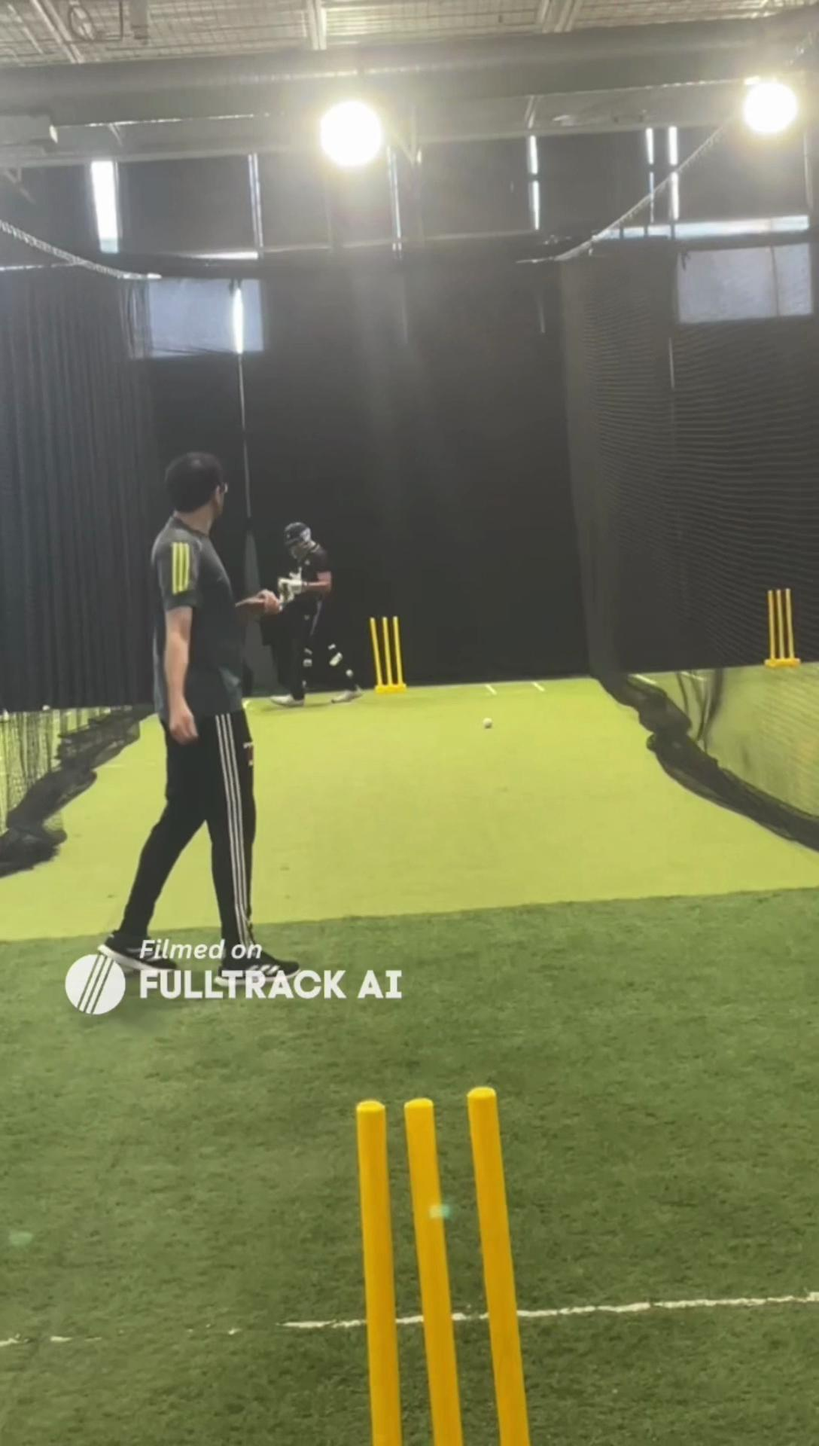ball: (481, 717, 496, 730)
